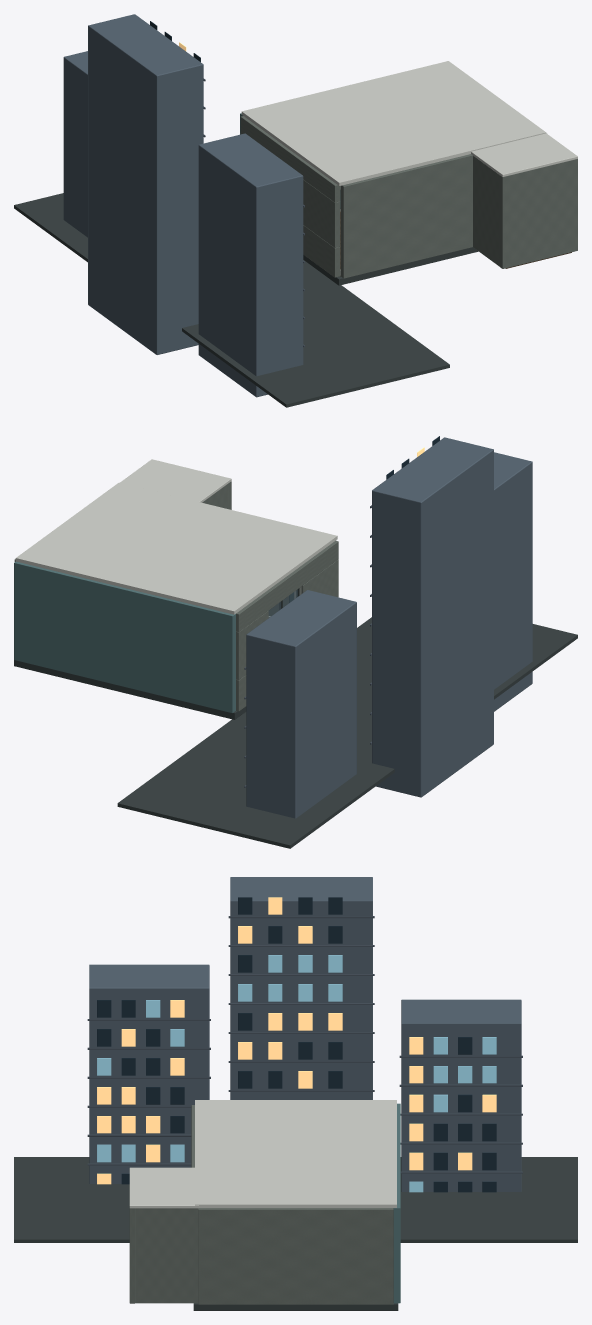
Rendered from Apartment.fbx.
The picture shows the model from 3 angles, top to bottom: view 1: azimuth 30°, elevation 25°; view 2: azimuth 150°, elevation 25°; view 3: azimuth 270°, elevation 25°; orthographic projection. The views are drawn at different scales.
Visible parts, largest first — view 1: City_Building_1, City_Building_0, Ceiling, Exterior_Alley, South_Wall_Left, Corridor_End, City_Building_2, Corridor_Ceiling, Corridor_West, West_Above_Window, West_Window_South, West_Below_Window (+1 smaller); view 2: City_Building_1, Ceiling, City_Building_2, North_Wall, Exterior_Alley, City_Building_0, Corridor_Ceiling, West_Above_Window, Foundation, West_Window_South, West_Window_North; view 3: City_Building_1, Ceiling, Exterior_Alley, East_Wall, City_Building_2, City_Building_0, Corridor_East, Corridor_Ceiling, Foundation, North_Wall, Corridor_End.
Part boxes in pixels (<box>): City_Building_1: <box>88,14,203,354</box>; City_Building_0: <box>198,133,303,397</box>; Ceiling: <box>241,61,546,185</box>; Exterior_Alley: <box>14,193,449,407</box>; South_Wall_Left: <box>340,154,472,278</box>; Corridor_End: <box>500,159,577,268</box>; City_Building_2: <box>63,51,87,237</box>; Corridor_Ceiling: <box>471,133,577,176</box>; Corridor_West: <box>473,156,507,268</box>; West_Above_Window: <box>240,116,340,202</box>; West_Window_South: <box>303,180,340,247</box>; West_Below_Window: <box>303,225,340,277</box>; City_Building_1: <box>372,437,493,797</box>; Ceiling: <box>15,482,337,614</box>; City_Building_2: <box>246,590,356,818</box>; North_Wall: <box>14,561,235,713</box>; Exterior_Alley: <box>117,617,577,848</box>; City_Building_0: <box>494,452,532,711</box>; Corridor_Ceiling: <box>120,459,231,502</box>; West_Above_Window: <box>236,540,338,631</box>; Foundation: <box>14,660,246,719</box>; West_Window_South: <box>301,559,338,597</box>; West_Window_North: <box>236,611,268,679</box>; City_Building_1: <box>230,877,372,1099</box>; Ceiling: <box>195,1100,396,1207</box>; Exterior_Alley: <box>14,1157,577,1242</box>; East_Wall: <box>198,1208,393,1304</box>; City_Building_2: <box>401,999,521,1191</box>; City_Building_0: <box>89,964,209,1183</box>; Corridor_East: <box>135,1208,198,1303</box>; Corridor_Ceiling: <box>129,1167,199,1208</box>; Foundation: <box>193,1303,398,1310</box>; North_Wall: <box>393,1103,400,1303</box>; Corridor_End: <box>129,1208,135,1303</box>.
Size of the model in its own units: 11.93 by 8.61 by 15.
41 materials, 5 textured.
